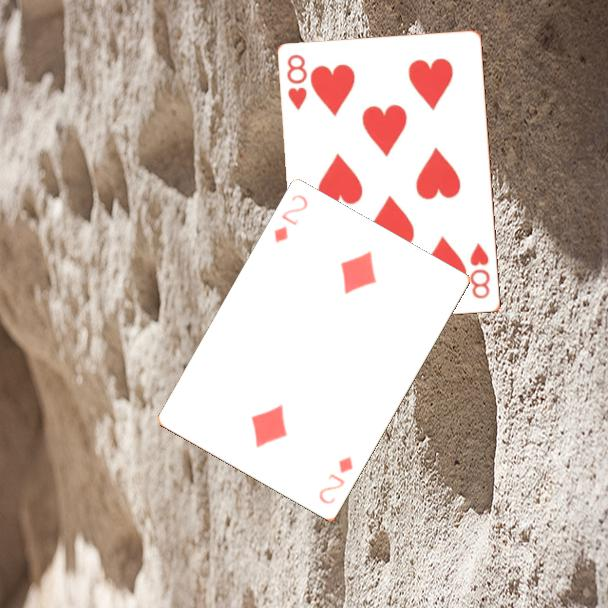d02: (315, 453, 356, 508), (270, 191, 311, 246)
h08: (283, 51, 310, 113), (467, 240, 493, 302)
